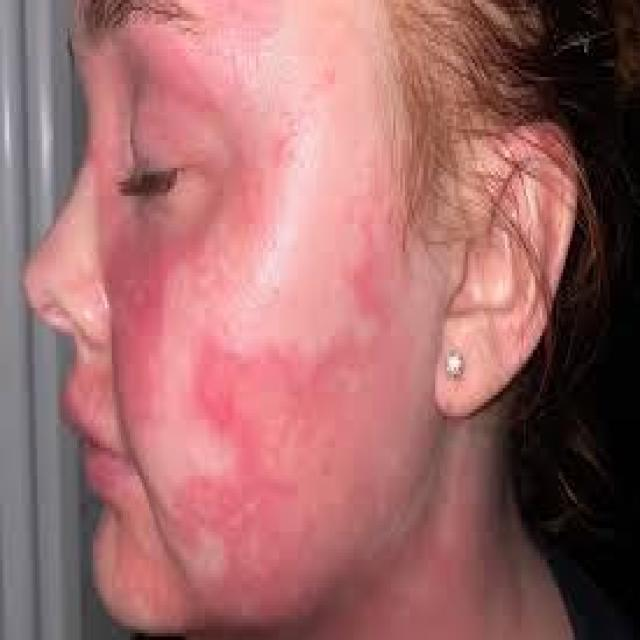Eczema: (201, 328, 357, 534), (114, 240, 168, 375)
